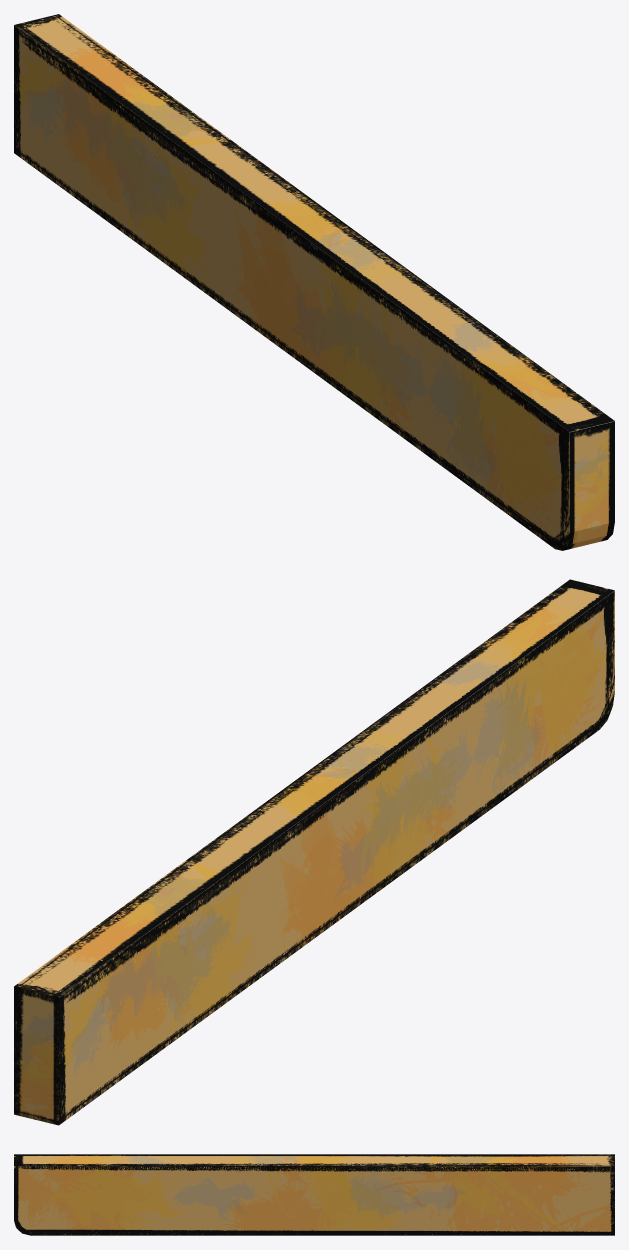
File: 1-RoofTop2.fbx
3 renders of one model, top to bottom at view 1: azimuth 30°, elevation 25°; view 2: azimuth 150°, elevation 25°; view 3: azimuth 270°, elevation 25°, orthographic. The views are drawn at different scales.
Visible parts, largest first — view 1: Cube.010; view 2: Cube.010; view 3: Cube.010.
Part boxes in pixels (x1,y1,x2,y2): Cube.010: (14,14,614,550); Cube.010: (14,579,614,1125); Cube.010: (14,1154,614,1235).
Size of the model in its own units: 55.07 by 150 by 1179.
1 material, 1 textured.
